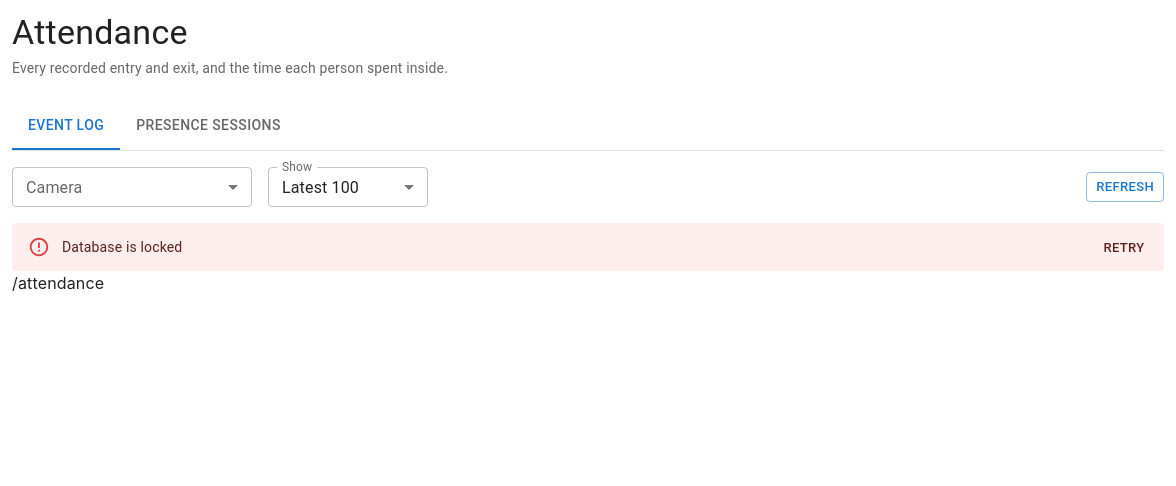
Test: a backend failure shows the reason and Retry recovers
The image size is (1176, 486).
Expected: the text "Database is locked" is shown, [62, 239, 182, 255]
Click the button "Retry" at (1124, 248), box [1092, 233, 1156, 264]
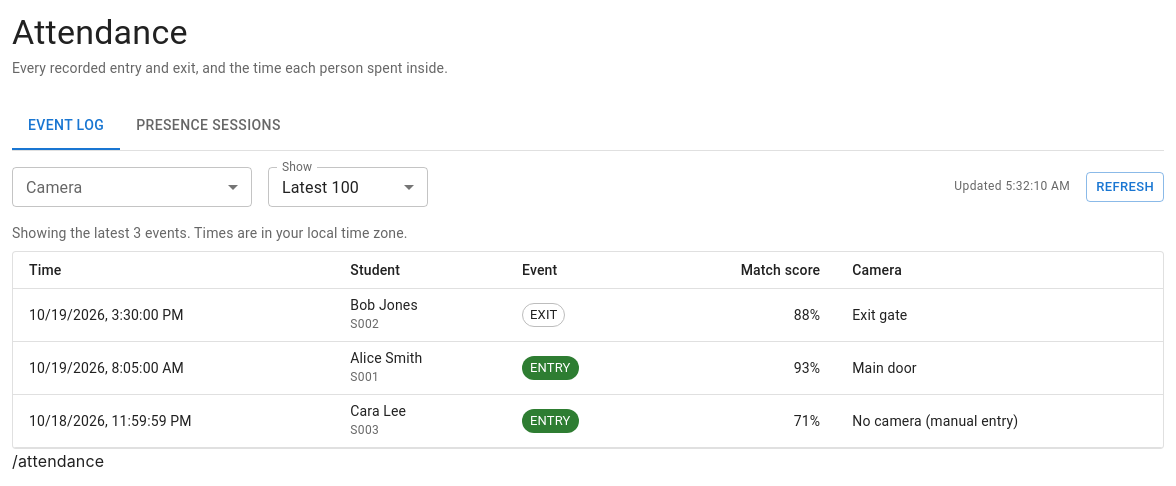
Expected: the table named "Attendance records" is shown, [13, 252, 1163, 448]
